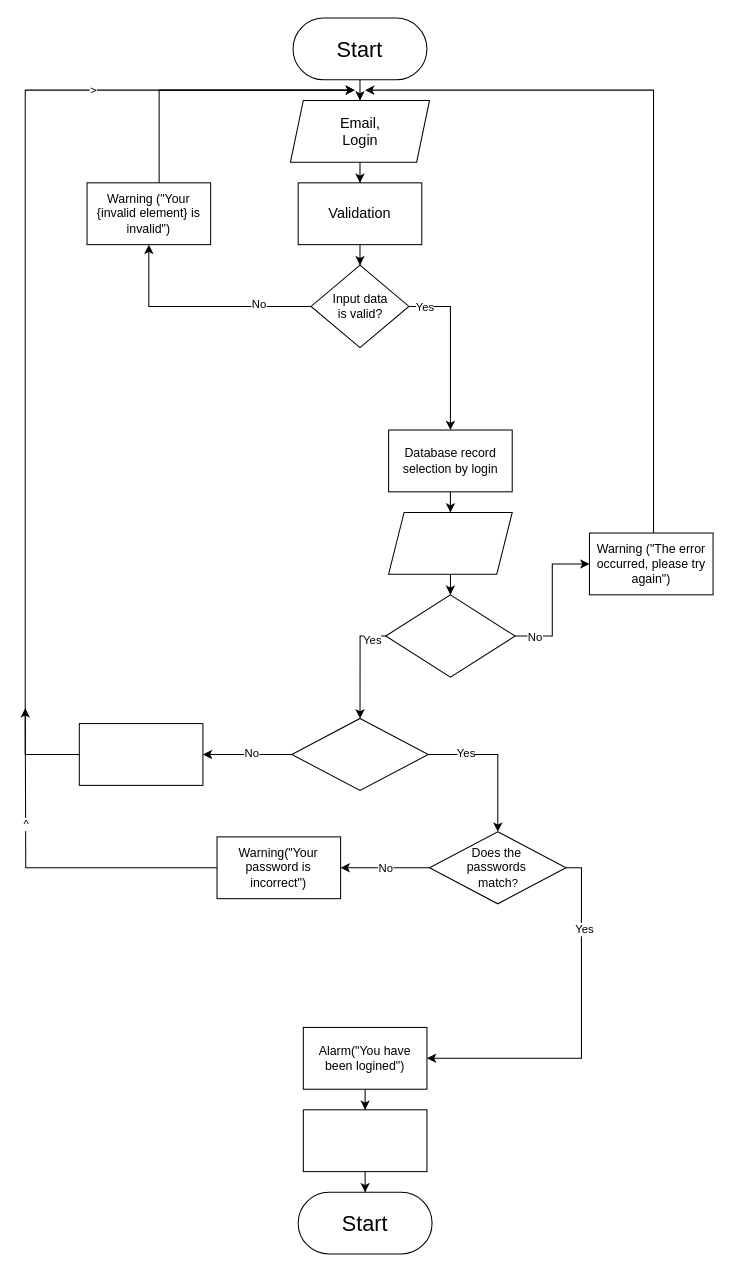
Some shapes in this 731 by 1272 pixel diagram are drawn without their labels. Here are the shapes that lost their labels. From the top down, the box of each, then its label:
(388, 511, 512, 574): Request result status
(385, 594, 515, 677): result status is success?
(78, 723, 203, 785): Warning("There is no users with {login} login")
(291, 717, 428, 791): Does result contains record?
(302, 1109, 427, 1172): Redirect to account
